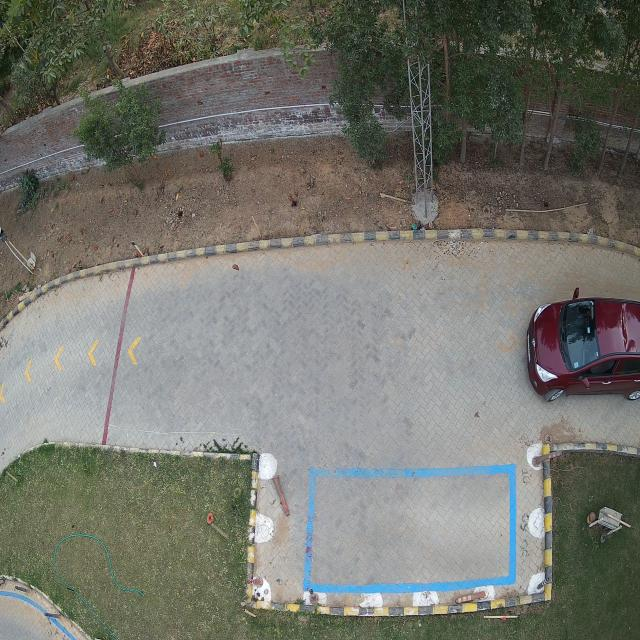car: (526, 297, 640, 400)
